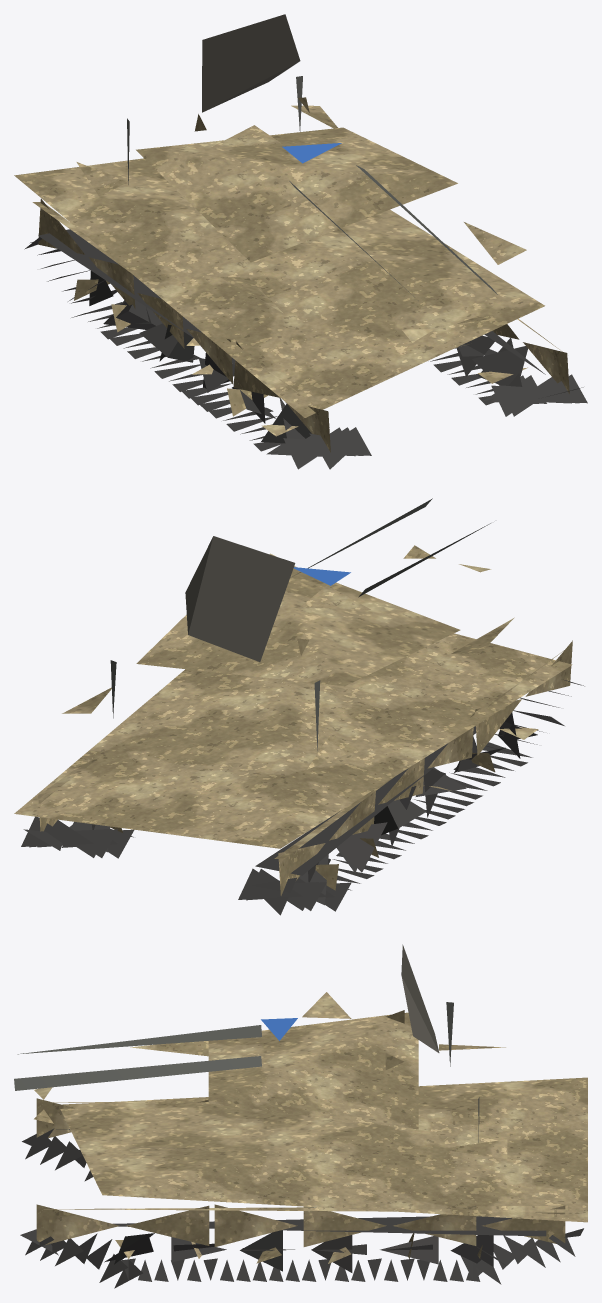
Rendered from aad_e4_us_spaag_LOD2.glb.
The picture shows the model from 3 angles, top to bottom: view 1: azimuth 30°, elevation 25°; view 2: azimuth 150°, elevation 25°; view 3: azimuth 270°, elevation 25°; orthographic projection. The views are drawn at different scales.
Visible parts, largest first — view 1: aad_e4_us_spaag_LOD2_body, aad_e4_us_spaag_LOD2_track, aad_e4_us_spaag_LOD2_deck, aad_e4_us_spaag_LOD2_gun, aad_e4_us_spaag_LOD2_team; view 2: aad_e4_us_spaag_LOD2_body, aad_e4_us_spaag_LOD2_track, aad_e4_us_spaag_LOD2_deck, aad_e4_us_spaag_LOD2_gun; view 3: aad_e4_us_spaag_LOD2_body, aad_e4_us_spaag_LOD2_track, aad_e4_us_spaag_LOD2_gun, aad_e4_us_spaag_LOD2_deck.
Part boxes in pixels (x1,y1,x2,y2): aad_e4_us_spaag_LOD2_body: (14, 97, 569, 452); aad_e4_us_spaag_LOD2_track: (24, 229, 587, 469); aad_e4_us_spaag_LOD2_deck: (202, 14, 300, 112); aad_e4_us_spaag_LOD2_gun: (127, 76, 497, 304); aad_e4_us_spaag_LOD2_team: (282, 143, 341, 163); aad_e4_us_spaag_LOD2_body: (14, 545, 572, 895); aad_e4_us_spaag_LOD2_track: (21, 679, 584, 915); aad_e4_us_spaag_LOD2_deck: (185, 536, 295, 661); aad_e4_us_spaag_LOD2_gun: (110, 498, 490, 750); aad_e4_us_spaag_LOD2_body: (34, 992, 587, 1263); aad_e4_us_spaag_LOD2_track: (20, 1128, 583, 1288); aad_e4_us_spaag_LOD2_gun: (14, 1002, 479, 1142); aad_e4_us_spaag_LOD2_deck: (401, 944, 439, 1052).
Size of the model in its own units: 3.25 by 3.49 by 6.7.
Materials: 5 (1 with a texture image).
